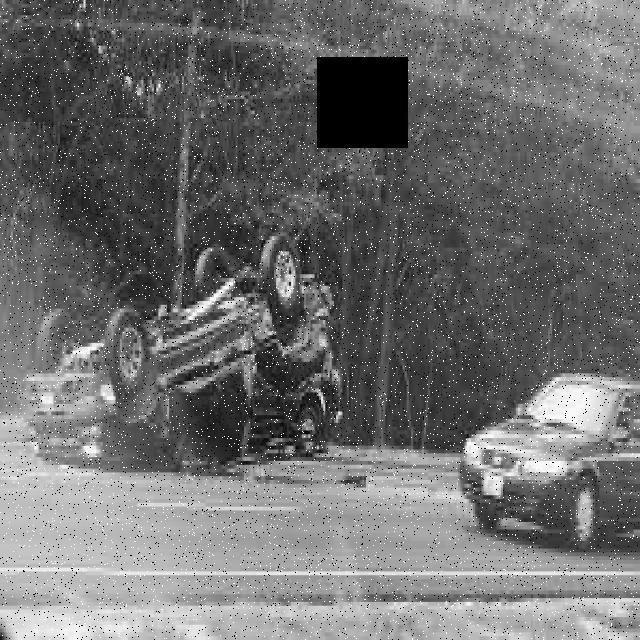accident: (20, 229, 345, 473)
vehicle: (460, 369, 640, 549)
